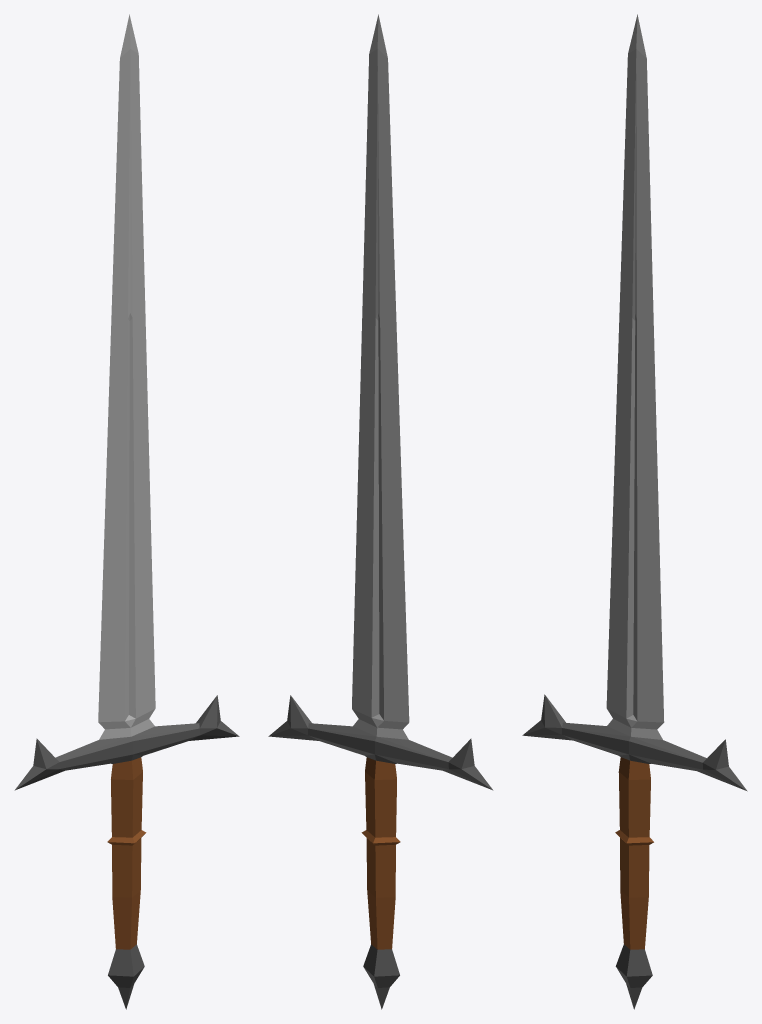
File: Low Poly Weapon Pack - by Kickin It Studios.fbx_Great_Sword.glb
The picture shows the model from 3 angles, left to right: view 1: azimuth 30°, elevation 25°; view 2: azimuth 150°, elevation 25°; view 3: azimuth 330°, elevation 25°; orthographic projection.
Parts seen in each view (by area): view 1: Great Sword; view 2: Great Sword; view 3: Great Sword.
Boxes of the visible parts, box(x1,y1,x2,y2) form: Great Sword: box(14, 14, 239, 1009); Great Sword: box(268, 14, 493, 1009); Great Sword: box(522, 14, 747, 1009).
Size of the model in its own units: 0.4771 by 2.01 by 0.06.
